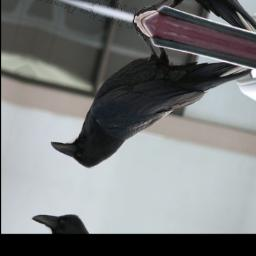Crow: (46, 8, 256, 204)
